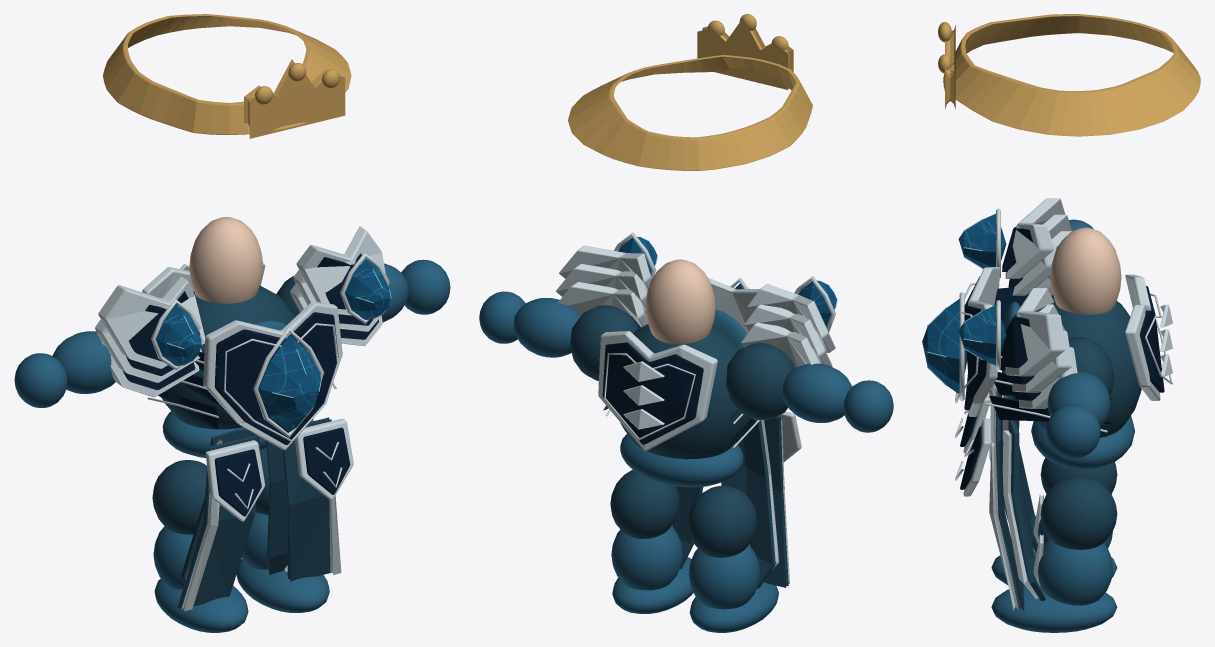
File: a_rime.glb
The picture shows the model from 3 angles, left to right: view 1: azimuth 30°, elevation 25°; view 2: azimuth 150°, elevation 25°; view 3: azimuth 270°, elevation 25°; orthographic projection. The views are drawn at different scales.
Visible parts, largest first — view 1: TLL_head_delivery, TLL_chest_delivery, R2_Chest shaped enamel_delivery, TLL_hips_delivery, Split navy coat.001_delivery, Split navy coat_delivery, R2_Heart crystal_delivery, R2_Shoulder silver rim -1 0_delivery, TLL_upperlegr_delivery, TLL_footl_delivery, R2_Chest silver chassis_delivery, TLL_lowerarmr_delivery (+24 smaller); view 2: TLL_head_delivery, TLL_chest_delivery, TLL_hips_delivery, R2_Back blue shell_delivery, TLL_upperlegr_delivery, Articulated undersleeve_delivery, TLL_upperlegl_delivery, TLL_lowerlegl_delivery, TLL_lowerlegr_delivery, TLL_lowerarmr_delivery, TLL_lowerarml_delivery, R2_Back silver chassis_delivery (+16 smaller); view 3: TLL_head_delivery, TLL_chest_delivery, TLL_hips_delivery, TLL_upperlegl_delivery, TLL_lowerlegl_delivery, TLL_footl_delivery, R2_Shoulder silver rim 1 0_delivery, R2_Heart crystal_delivery, TLL_handl_delivery, R2_Shoulder silver rim -1 0_delivery, TLL_lowerarml_delivery, R2_Back silver chassis_delivery (+20 smaller).
Boxes of the visible parts, x1,y1,x2,y2 form: TLL_head_delivery: [103, 14, 351, 138]; TLL_chest_delivery: [162, 217, 294, 429]; R2_Chest shaped enamel_delivery: [215, 312, 338, 444]; TLL_hips_delivery: [162, 411, 313, 584]; Split navy coat.001_delivery: [281, 417, 331, 581]; Split navy coat_delivery: [177, 435, 260, 609]; R2_Heart crystal_delivery: [259, 334, 320, 431]; R2_Shoulder silver rim -1 0_delivery: [98, 276, 205, 368]; TLL_upperlegr_delivery: [152, 460, 206, 534]; TLL_footl_delivery: [236, 559, 329, 612]; R2_Chest silver chassis_delivery: [203, 301, 342, 450]; TLL_lowerarmr_delivery: [52, 331, 115, 393]; TLL_head_delivery: [568, 14, 812, 170]; TLL_chest_delivery: [620, 259, 751, 459]; TLL_hips_delivery: [620, 418, 778, 588]; R2_Back blue shell_delivery: [602, 342, 703, 444]; TLL_upperlegr_delivery: [687, 485, 757, 557]; Articulated undersleeve_delivery: [726, 343, 794, 420]; TLL_upperlegl_delivery: [610, 469, 679, 538]; TLL_lowerlegl_delivery: [611, 525, 682, 590]; TLL_lowerlegr_delivery: [688, 544, 760, 609]; TLL_lowerarmr_delivery: [782, 363, 852, 422]; TLL_lowerarml_delivery: [513, 298, 580, 357]; R2_Back silver chassis_delivery: [598, 331, 717, 450]; TLL_head_delivery: [938, 14, 1200, 136]; TLL_chest_delivery: [989, 227, 1141, 437]; TLL_hips_delivery: [1002, 395, 1134, 601]; TLL_upperlegl_delivery: [1040, 476, 1117, 549]; TLL_lowerlegl_delivery: [1033, 534, 1113, 605]; TLL_footl_delivery: [991, 584, 1117, 632]; R2_Shoulder silver rim 1 0_delivery: [1005, 288, 1065, 376]; R2_Heart crystal_delivery: [922, 299, 967, 393]; TLL_handl_delivery: [1046, 405, 1100, 458]; R2_Shoulder silver rim -1 0_delivery: [1005, 198, 1065, 278]; TLL_lowerarml_delivery: [1047, 371, 1110, 426]; R2_Back silver chassis_delivery: [1125, 274, 1160, 400].
Size of the model in its own units: 1.79 by 2.35 by 1.02.
Materials: 8 (2 with a texture image).
